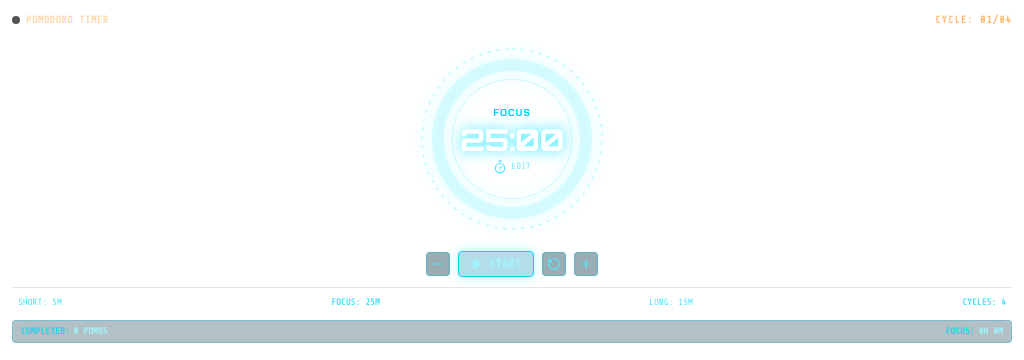
Test: PomodoroDial component › cancels timer and resets countdown when Cancel button is clicked
Note: Start timer
Click the button "START". click: (496, 264)
box: [458,251,534,277]
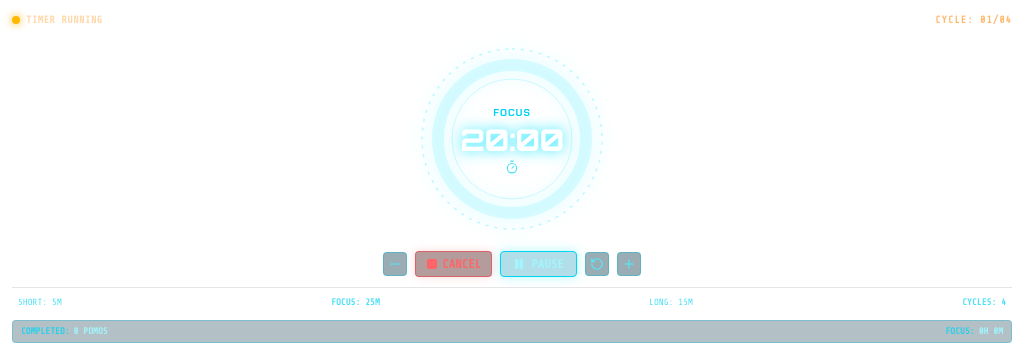
Note: Click Cancel button (which replaced Start button)
Click the button "CANCEL". click: (454, 264)
box: [415,251,492,277]
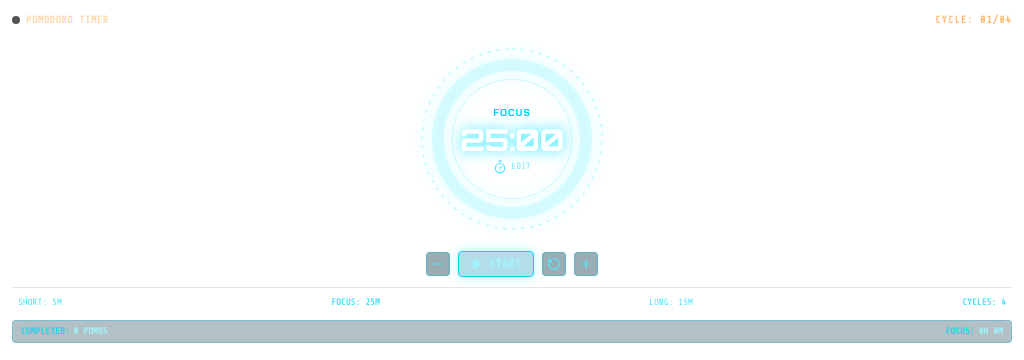
Check: the button "START" is shown, box [458,251,534,277]
Check: the button "CANCEL" is gone
